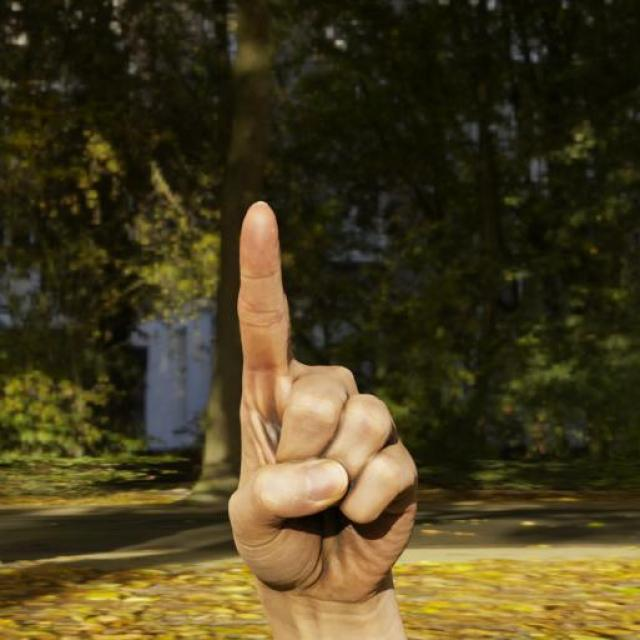Z: (222, 194, 423, 612)
